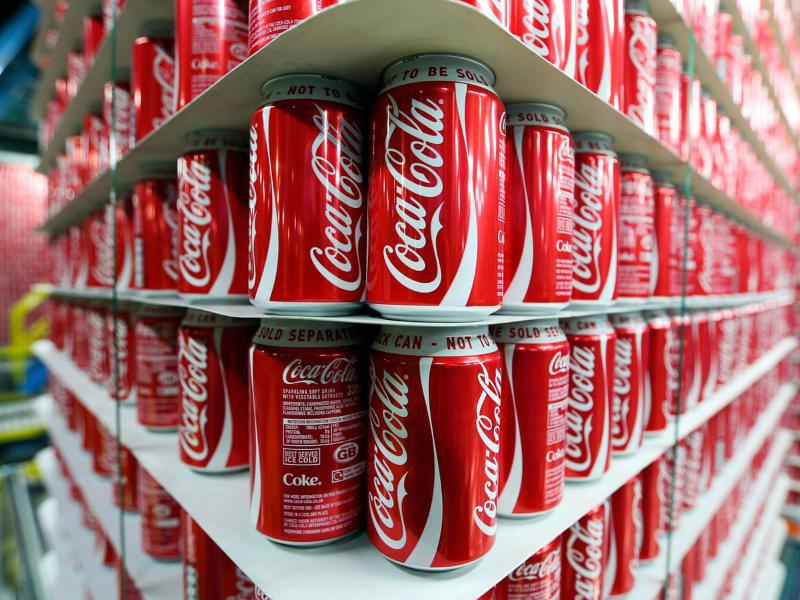can: (372, 55, 508, 317), (368, 327, 501, 569), (243, 329, 361, 550), (248, 76, 359, 308), (501, 319, 572, 528), (508, 109, 575, 305), (178, 122, 241, 294), (179, 317, 240, 475), (570, 141, 620, 303), (568, 317, 610, 483), (177, 2, 240, 92), (610, 320, 649, 451), (130, 168, 171, 291), (130, 19, 171, 141), (619, 170, 658, 297), (134, 312, 173, 432), (625, 23, 662, 122)
